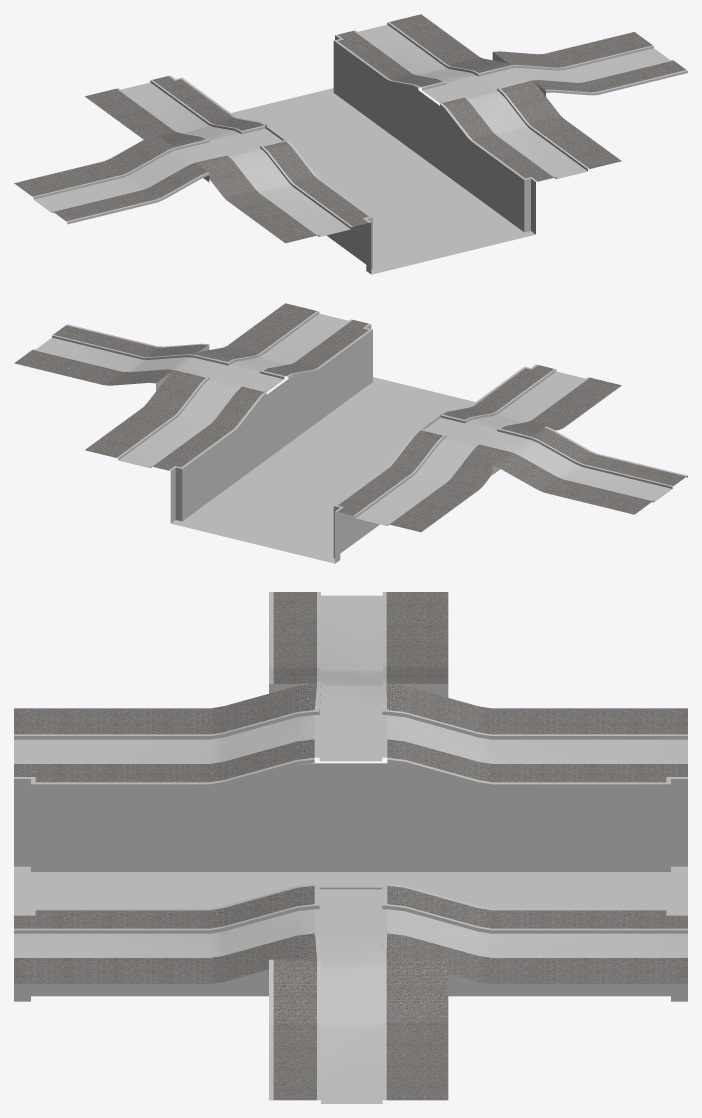
Rendered from canale.fbx.
3 renders of one model, top to bottom at view 1: azimuth 30°, elevation 25°; view 2: azimuth 150°, elevation 25°; view 3: azimuth 270°, elevation 25°, orthographic. The views are drawn at different scales.
Parts seen in each view (by area): view 1: Mesh; view 2: Mesh; view 3: Mesh.
Boxes of the visible parts, x1=… form: Mesh: x1=14, y1=14, x2=687, y2=274; Mesh: x1=14, y1=303, x2=687, y2=563; Mesh: x1=14, y1=592, x2=687, y2=1103.
Size of the model in its own units: 7780 by 802 by 4360.
